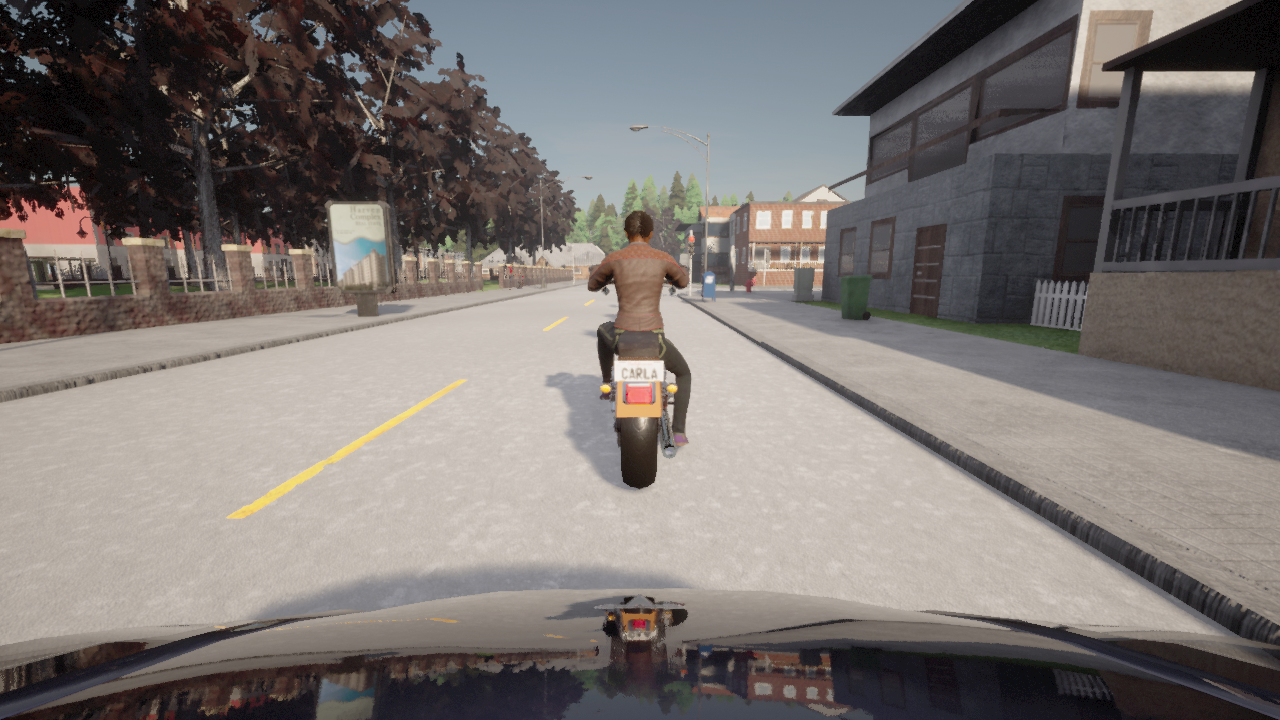cyclist: (0, 588, 1279, 719), (588, 264, 688, 488), (517, 273, 523, 289)
pedestrian: (506, 262, 515, 290)
